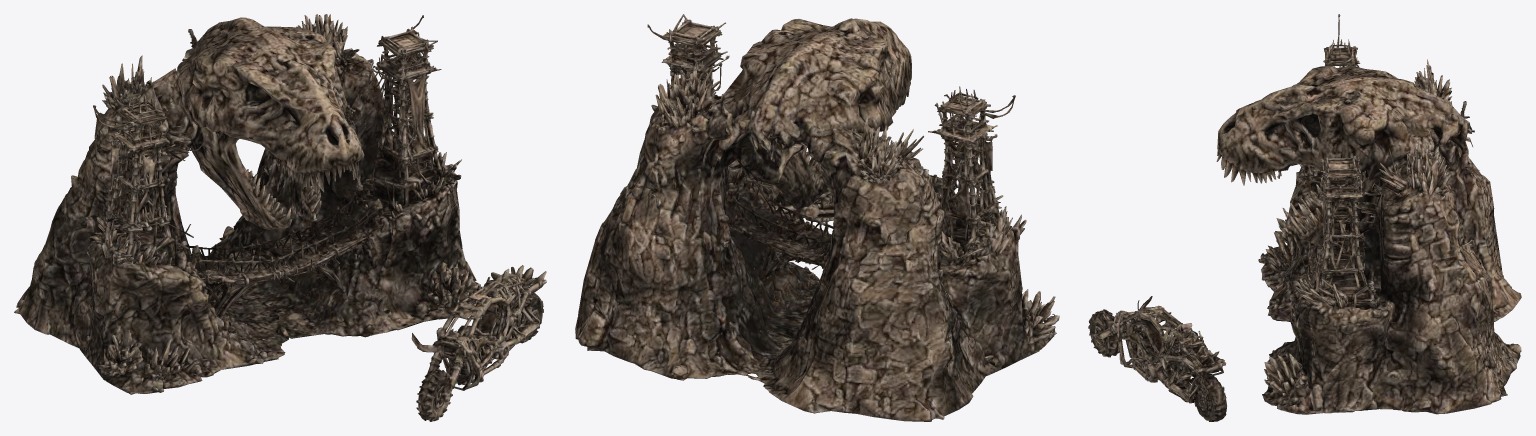
File: skull-gate.glb
3 renders of one model, left to right at view 1: azimuth 30°, elevation 25°; view 2: azimuth 150°, elevation 25°; view 3: azimuth 270°, elevation 25°, orthographic. The views are drawn at different scales.
Parts seen in each view (by area): view 1: Mesh_0; view 2: Mesh_0; view 3: Mesh_0.
Part boxes in pixels (left/top/right/bottom): Mesh_0: left=14, top=14, right=546, bottom=421; Mesh_0: left=575, top=14, right=1059, bottom=421; Mesh_0: left=1088, top=14, right=1521, bottom=421.
Bounding box in the file's own units: 5.7 × 3.97 × 5.92.
1 material, 1 textured.
